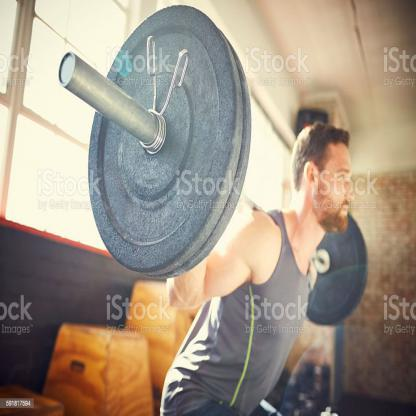Barbell: (53, 49, 85, 98)
